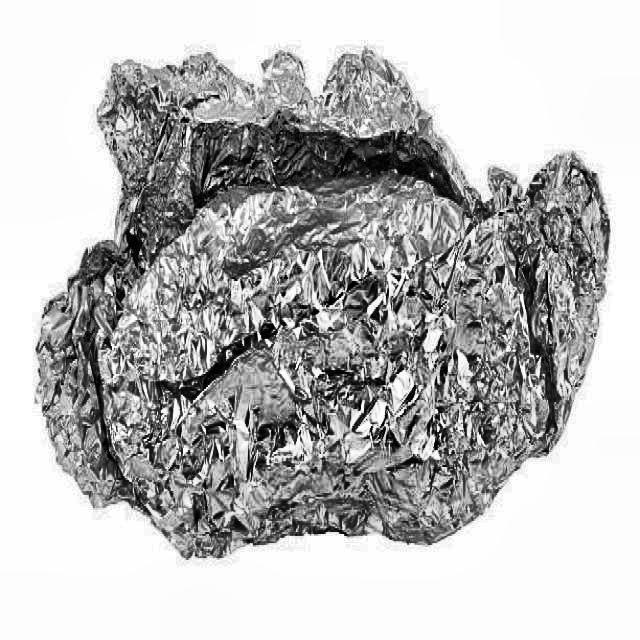metal: (32, 51, 613, 564)
